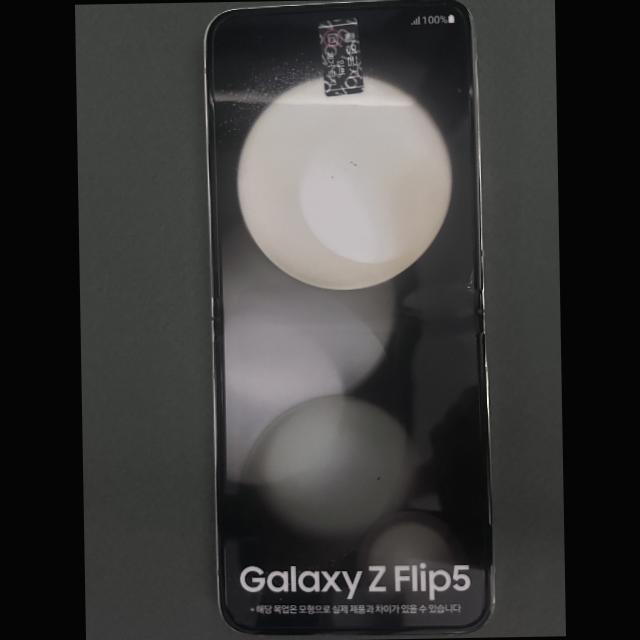phone: (206, 0, 492, 634)
sticker: (317, 17, 364, 96)
